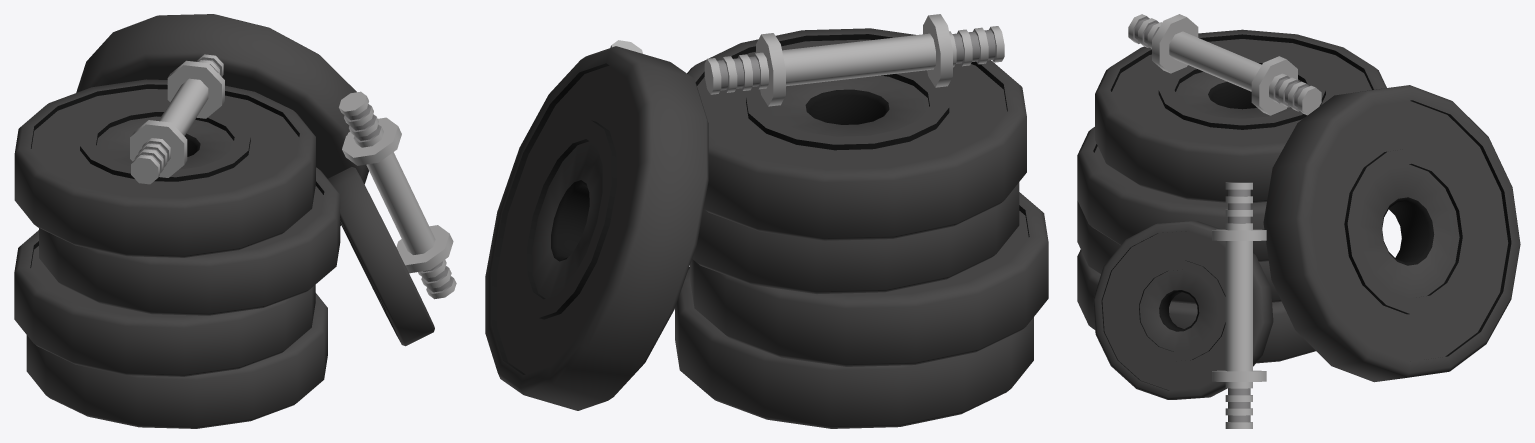
File: RockOfBlins.fbx
3 views of the same model, side by side, from view 1: azimuth 30°, elevation 25°; view 2: azimuth 150°, elevation 25°; view 3: azimuth 270°, elevation 25° (orthographic). The views are drawn at different scales.
Parts seen in each view (by area): view 1: blin.004, blin.002, blin.003, blin.005, blin.001, shtyr.001, blin, shtyr; view 2: blin.005, blin.004, blin.002, blin.001, blin.003, shtyr; view 3: blin.005, blin.004, blin, blin.003, shtyr, shtyr.001, blin.001, blin.002.
Boxes of the visible parts, box(x1,y1,x2,y2) form: blin.004: box(14, 79, 315, 257); blin.002: box(14, 230, 315, 376); blin.003: box(39, 167, 340, 315); blin.005: box(76, 14, 368, 225); blin.001: box(26, 293, 327, 428); shtyr.001: box(339, 91, 456, 299); blin: box(328, 167, 434, 346); shtyr: box(130, 54, 224, 184); blin.005: box(485, 46, 708, 410); blin.004: box(687, 28, 1026, 240); blin.002: box(690, 192, 1048, 366); blin.001: box(675, 267, 1033, 428); blin.003: box(692, 182, 1019, 294); shtyr: box(704, 14, 1004, 106); blin.005: box(1263, 85, 1520, 382); blin.004: box(1095, 29, 1386, 203); blin: box(1093, 221, 1273, 399); blin.003: box(1077, 127, 1268, 261); shtyr: box(1128, 14, 1321, 115); shtyr.001: box(1212, 182, 1266, 428); blin.001: box(1077, 249, 1315, 363); blin.002: box(1077, 201, 1281, 304).
Size of the model in its own units: 0.975 by 0.5961 by 0.9007.
